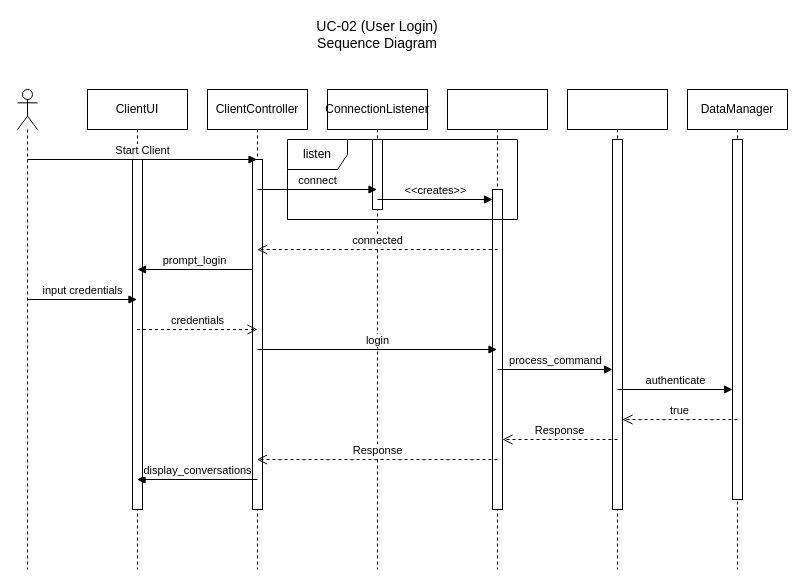
This 805x587 diagram has some shape labels left out. Here are the shapes that lost their labels. From the top down, the box of each, then its label:
(446, 88, 548, 570): ConnectionHandler
(566, 88, 668, 570): ServerController
